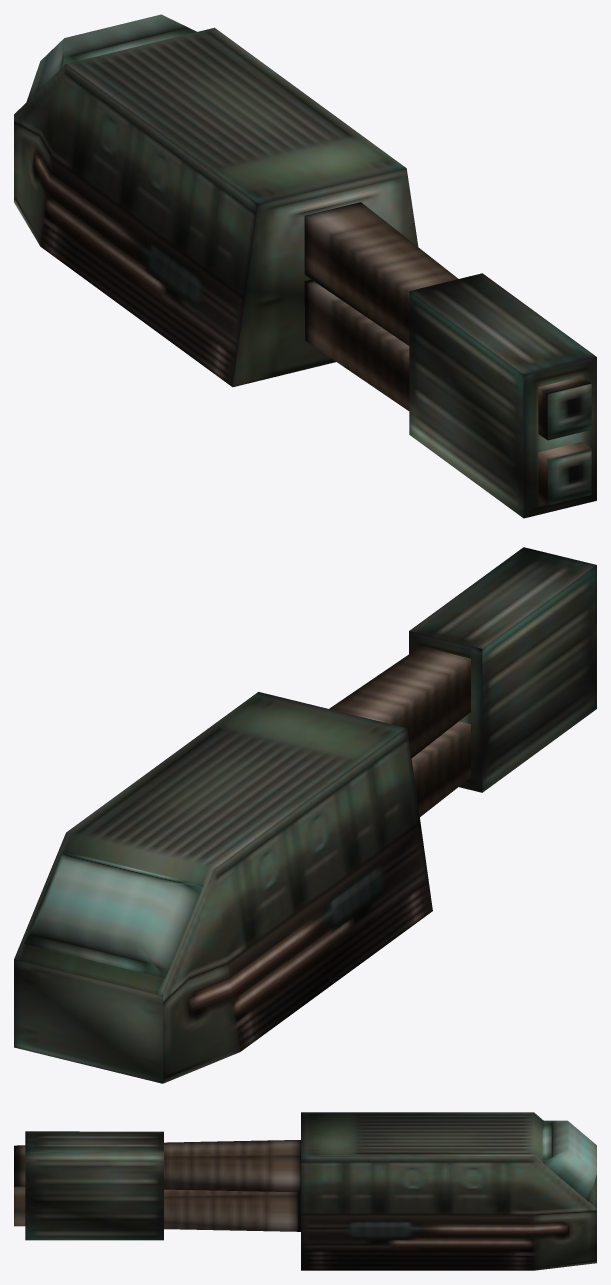
Rendered from wep02.glb.
3 renders of one model, top to bottom at view 1: azimuth 30°, elevation 25°; view 2: azimuth 150°, elevation 25°; view 3: azimuth 270°, elevation 25°, orthographic. The views are drawn at different scales.
Visible parts, largest first — view 1: wep02; view 2: wep02; view 3: wep02.
Boxes of the visible parts, x1=… form: wep02: x1=14, y1=14, x2=596, y2=518; wep02: x1=14, y1=547, x2=596, y2=1083; wep02: x1=14, y1=1112, x2=596, y2=1270.
Size of the model in its own units: 0.1557 by 0.1317 by 0.6507.
Materials: 1 (1 with a texture image).
